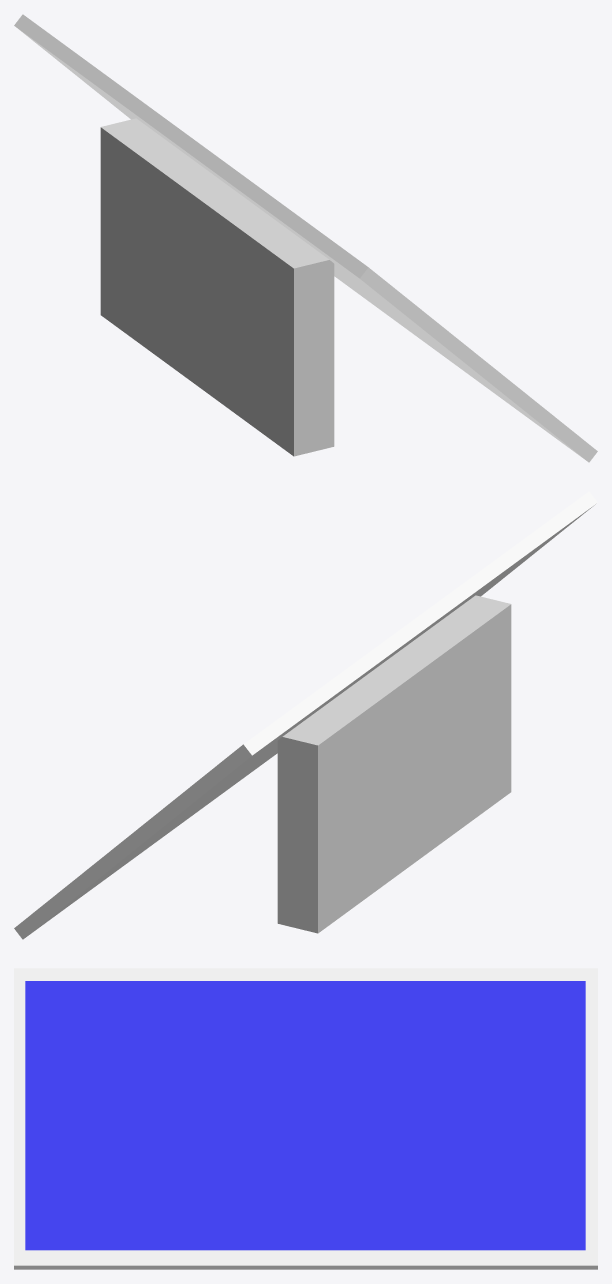
Rendered from csolar01.glb.
The picture shows the model from 3 angles, top to bottom: view 1: azimuth 30°, elevation 25°; view 2: azimuth 150°, elevation 25°; view 3: azimuth 270°, elevation 25°; orthographic projection. The views are drawn at different scales.
Parts seen in each view (by area): view 1: Cube.001, Cube; view 2: Cube.001, Cube; view 3: Cube.
Boxes of the visible parts, x1,y1,x2,y2 form: Cube.001: (100,118,334,456); Cube: (14,14,597,462); Cube.001: (277,595,511,933); Cube: (14,491,597,939); Cube: (14,968,597,1269).
Size of the model in its own units: 0.9546 by 0.9546 by 2.4.
